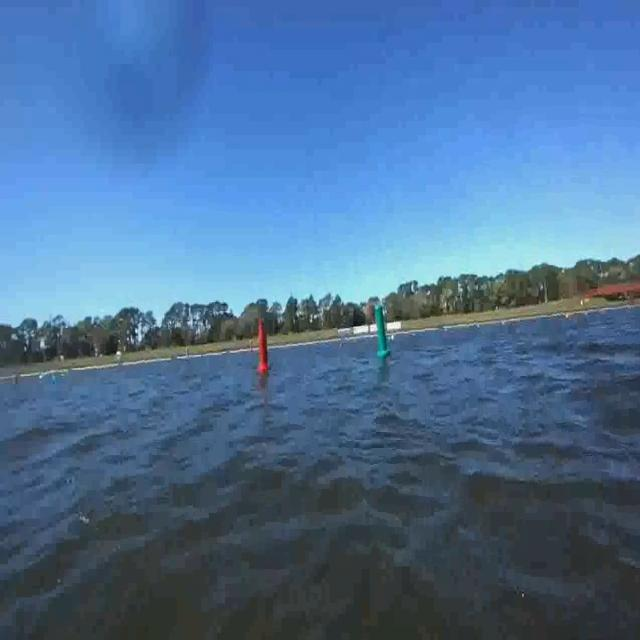green-column-buoy: (375, 304, 392, 359)
red-column-buoy: (256, 316, 270, 372)
